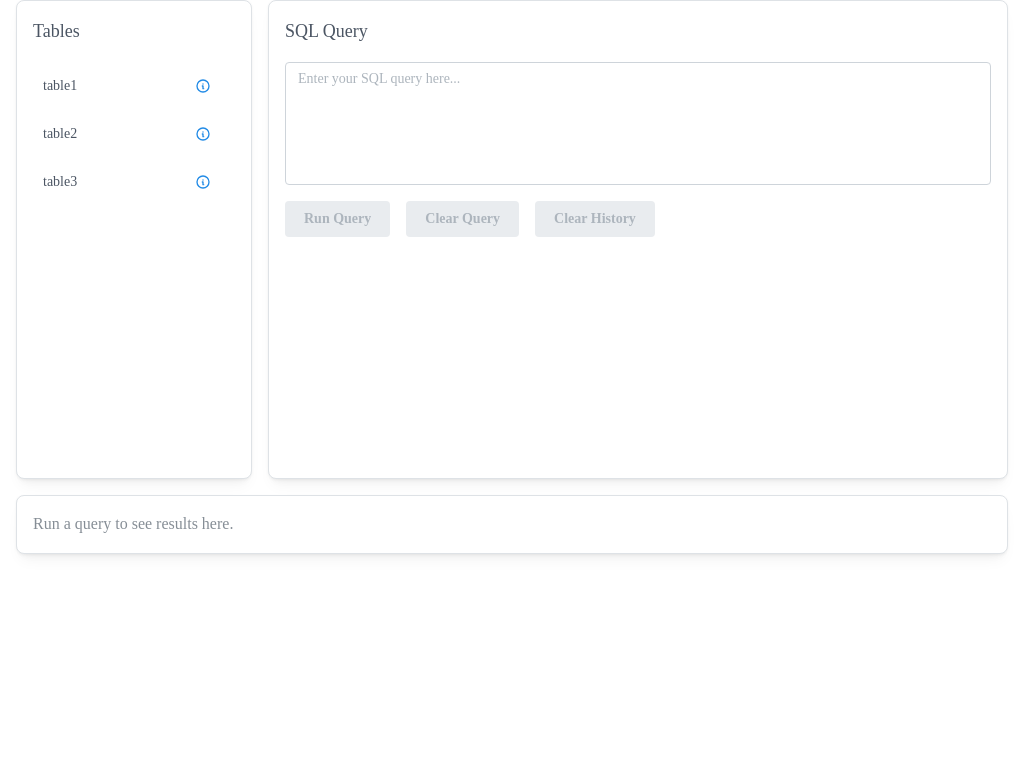
Test case: DatabaseViewer Component › handles query execution errors
Note: Type and execute invalid query
In the text box: (638, 123) [285,62,991,185], type "INVALID SQL QUERY;"
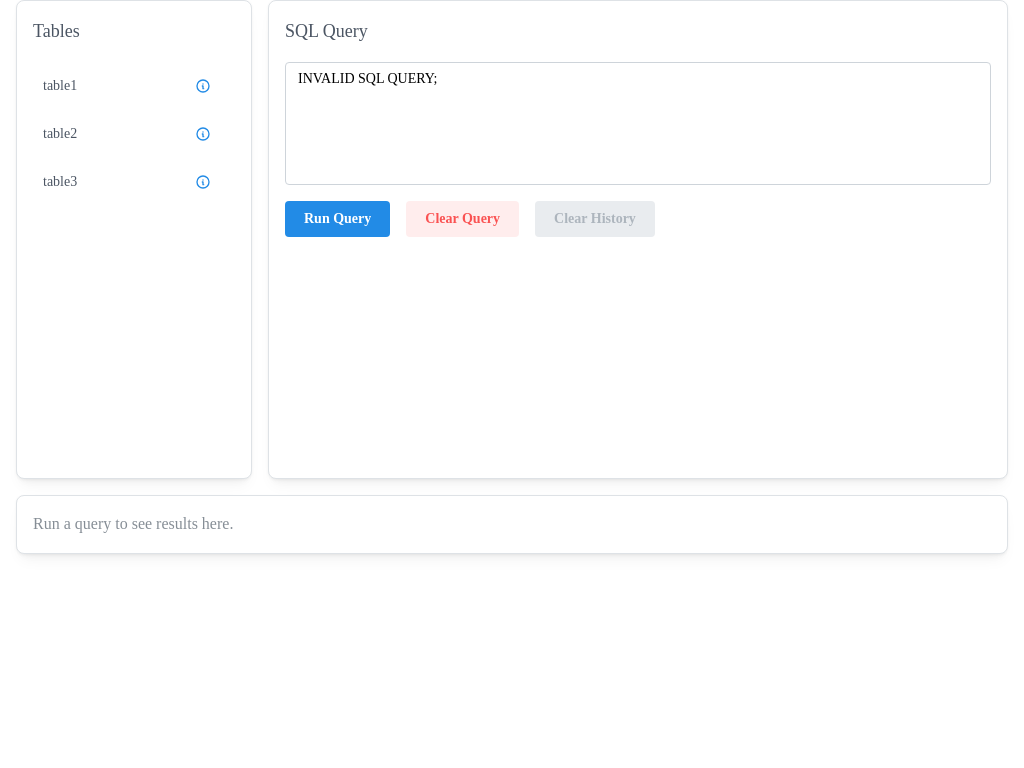
Click the button "Run Query": (338, 219) [285,201,390,237]
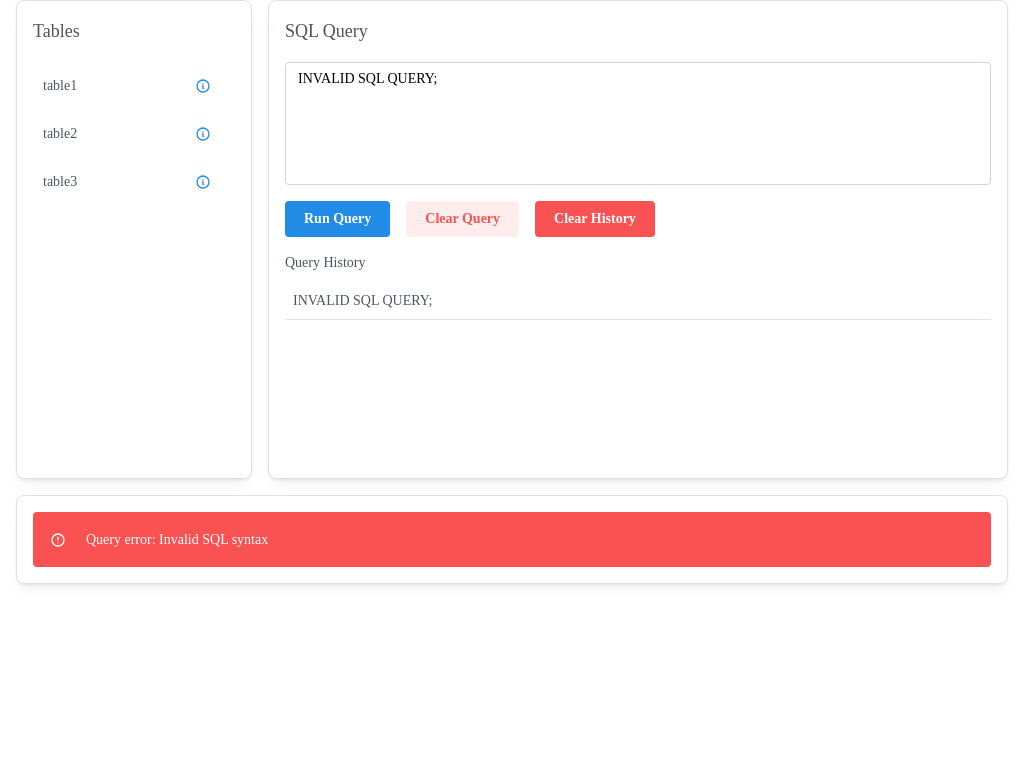
Now the text "Query error: Invalid SQL syntax" is shown, box [86,532,268,547]
